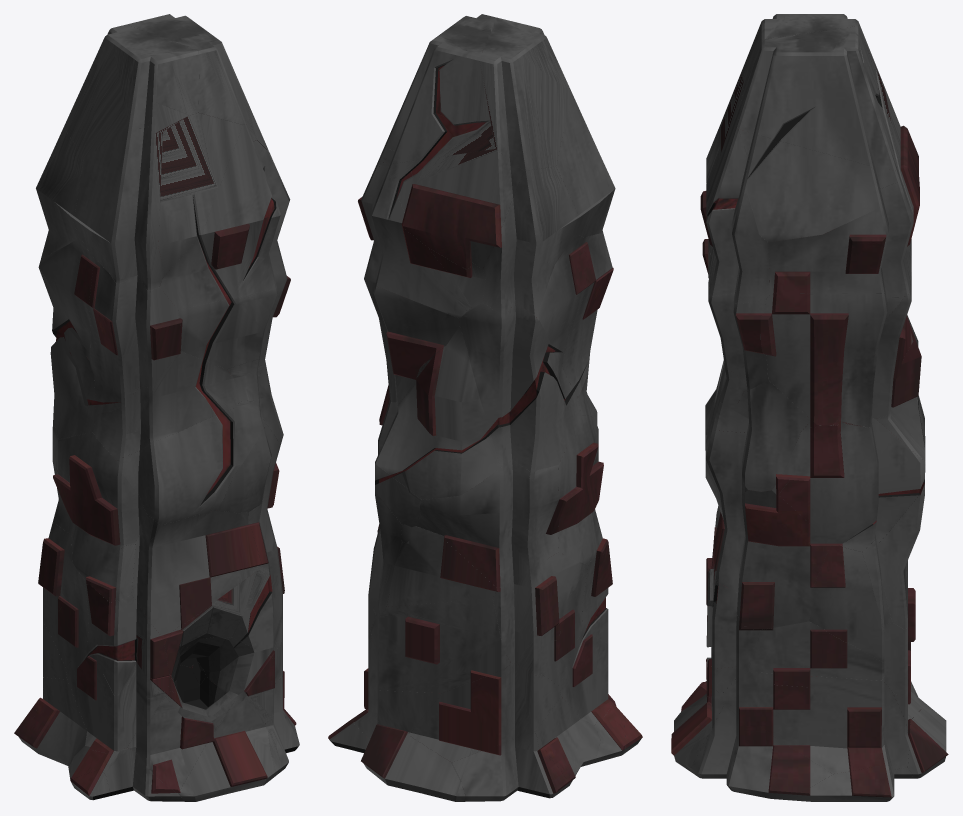
File: TowerSpawnerCracked.fbx
The picture shows the model from 3 angles, left to right: view 1: azimuth 30°, elevation 25°; view 2: azimuth 150°, elevation 25°; view 3: azimuth 270°, elevation 25°; orthographic projection.
Parts seen in each view (by area): view 1: EnemySpawnPillar_cell.040, EnemySpawnPillar_cell.027, EnemySpawnPillar_cell.005, EnemySpawnPillar_cell.041, EnemySpawnPillar_cell.039, EnemySpawnPillar_cell.042, EnemySpawnPillar_cell.053, EnemySpawnPillar_cell.029, EnemySpawnPillar_cell.036, EnemySpawnPillar_cell.037, EnemySpawnPillar_cell.030, EnemySpawnPillar_cell.052 (+24 smaller); view 2: EnemySpawnPillar_cell.020, EnemySpawnPillar_cell.012, EnemySpawnPillar_cell.043, EnemySpawnPillar_cell.038, EnemySpawnPillar_cell.066, EnemySpawnPillar_cell.007, EnemySpawnPillar_cell.041, EnemySpawnPillar_cell.057, EnemySpawnPillar_cell.018, EnemySpawnPillar_cell.009, EnemySpawnPillar_cell.065, EnemySpawnPillar_cell.008 (+18 smaller); view 3: EnemySpawnPillar_cell.066, EnemySpawnPillar_cell.044, EnemySpawnPillar_cell.067, EnemySpawnPillar_cell.048, EnemySpawnPillar_cell.025, EnemySpawnPillar_cell.009, EnemySpawnPillar_cell.064, EnemySpawnPillar_cell.040, EnemySpawnPillar_cell.014, EnemySpawnPillar_cell.004, EnemySpawnPillar_cell.034, EnemySpawnPillar_cell.001 (+18 smaller).
Boxes of the visible parts, x1,y1,x2,y2 form: EnemySpawnPillar_cell.040: (159,124,290,309); EnemySpawnPillar_cell.027: (72,126,164,290); EnemySpawnPillar_cell.005: (131,510,261,640); EnemySpawnPillar_cell.041: (64,24,199,157); EnemySpawnPillar_cell.039: (89,258,181,414); EnemySpawnPillar_cell.042: (53,432,146,584); EnemySpawnPillar_cell.053: (116,408,233,525); EnemySpawnPillar_cell.029: (158,113,242,275); EnemySpawnPillar_cell.036: (92,351,240,460); EnemySpawnPillar_cell.037: (127,665,234,792); EnemySpawnPillar_cell.030: (178,270,290,369); EnemySpawnPillar_cell.052: (84,579,169,698); EnemySpawnPillar_cell.020: (459,303,581,471); EnemySpawnPillar_cell.012: (376,326,499,499); EnemySpawnPillar_cell.043: (416,459,558,587); EnemySpawnPillar_cell.038: (389,149,524,269); EnemySpawnPillar_cell.066: (387,14,498,164); EnemySpawnPillar_cell.007: (370,598,511,693); EnemySpawnPillar_cell.041: (479,18,572,171); EnemySpawnPillar_cell.057: (483,166,581,314); EnemySpawnPillar_cell.018: (408,663,560,762); EnemySpawnPillar_cell.009: (358,160,471,318); EnemySpawnPillar_cell.065: (492,552,585,675); EnemySpawnPillar_cell.008: (386,526,497,606); EnemySpawnPillar_cell.066: (737,26,896,170); EnemySpawnPillar_cell.044: (772,418,925,551); EnemySpawnPillar_cell.067: (721,672,909,773); EnemySpawnPillar_cell.048: (760,293,903,425); EnemySpawnPillar_cell.025: (714,490,830,630); EnemySpawnPillar_cell.009: (768,182,919,297); EnemySpawnPillar_cell.064: (745,135,880,242); EnemySpawnPillar_cell.040: (700,127,769,303); EnemySpawnPillar_cell.014: (690,706,832,800); EnemySpawnPillar_cell.004: (748,621,884,687); EnemySpawnPillar_cell.034: (809,545,884,662); EnemySpawnPillar_cell.001: (742,380,816,494).
Bounding box in the file's own units: 921 × 2657 × 938.
